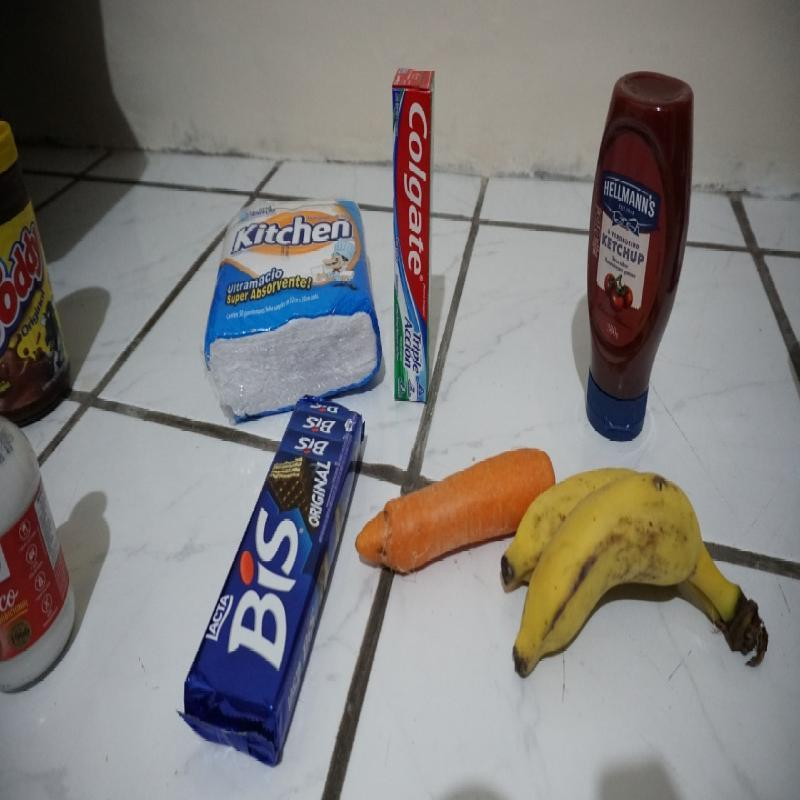Banana: (501, 468, 768, 682)
Carrot: (358, 447, 557, 567)
Chocolate Powder: (0, 115, 69, 430)
Coconut Milk: (0, 407, 76, 699)
Ketchup: (586, 70, 695, 440)
Napkin: (205, 196, 382, 422)
Toothpaste: (393, 69, 434, 406)
